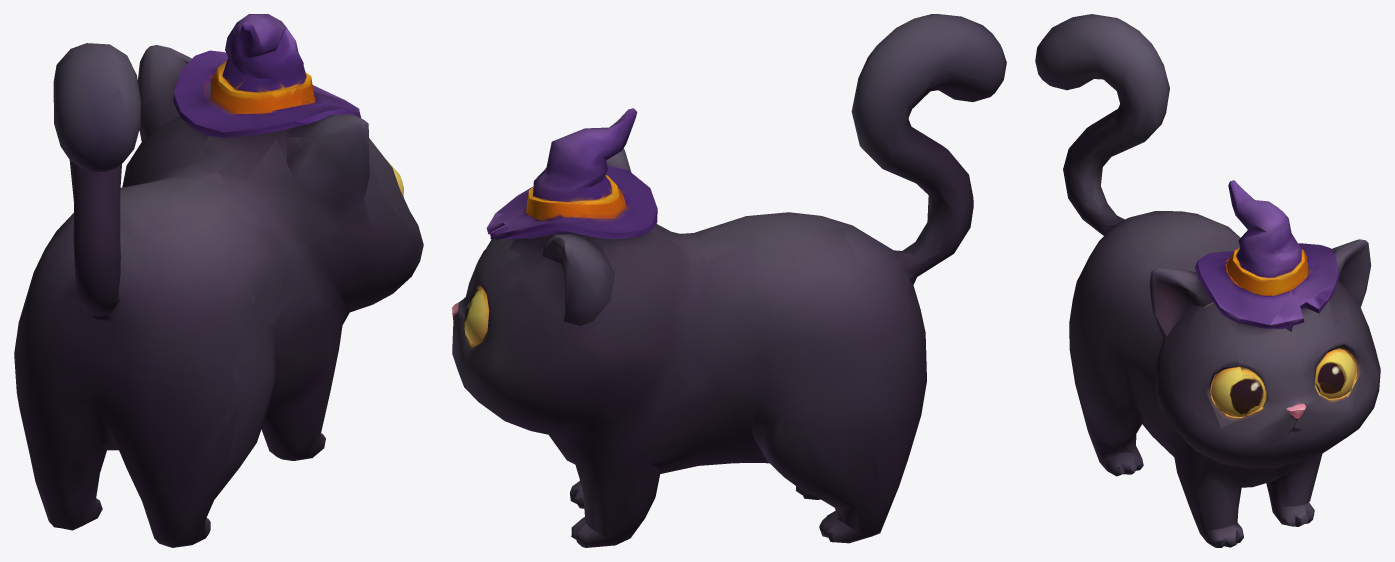
Rendered from E5_Mitten_LOD2.fbx.
The picture shows the model from 3 angles, left to right: view 1: azimuth 30°, elevation 25°; view 2: azimuth 150°, elevation 25°; view 3: azimuth 270°, elevation 25°; orthographic projection. The views are drawn at different scales.
Visible parts, largest first — view 1: E5_Mitten_LOD2; view 2: E5_Mitten_LOD2; view 3: E5_Mitten_LOD2.
Part boxes in pixels (x1,y1,x2,y2): E5_Mitten_LOD2: (14, 14, 423, 547); E5_Mitten_LOD2: (452, 14, 1006, 547); E5_Mitten_LOD2: (1035, 14, 1380, 547).
Size of the model in its own units: 0.1162 by 0.1302 by 0.0979.
1 material, 1 textured.
